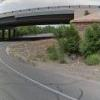Bridge: (2, 2, 98, 36)
